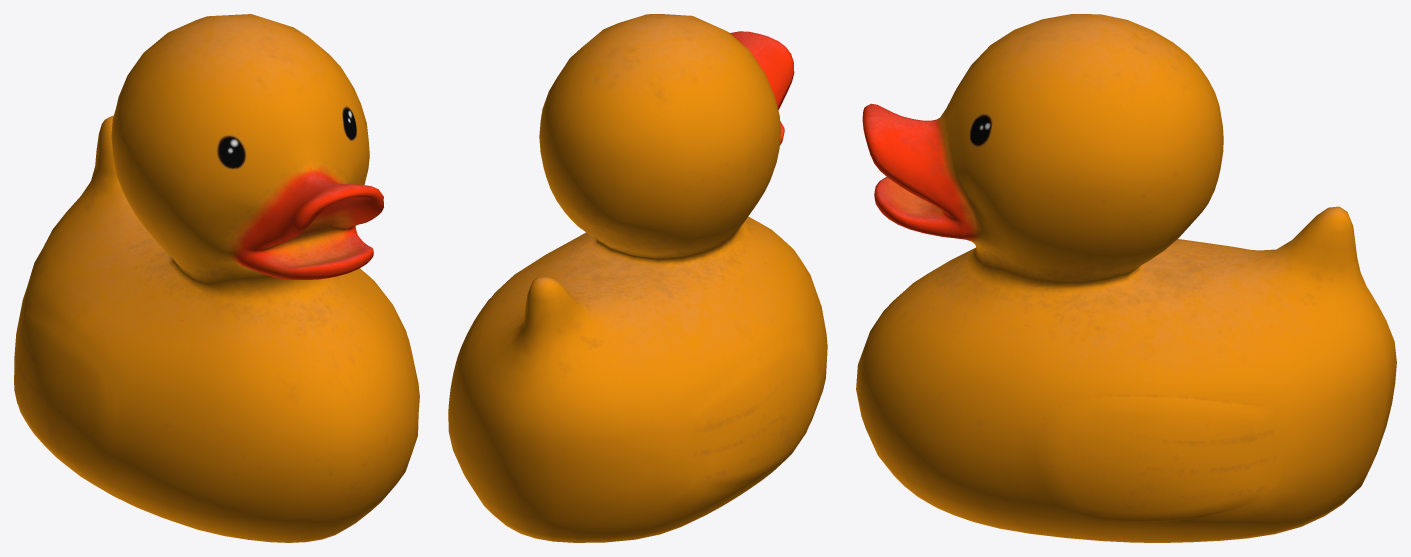
The model's file is rubber_duck_toy.glb.
3 views of the same model, side by side, from view 1: azimuth 30°, elevation 25°; view 2: azimuth 150°, elevation 25°; view 3: azimuth 270°, elevation 25° (orthographic). The views are drawn at different scales.
Visible parts, largest first — view 1: rubber_duck_toy; view 2: rubber_duck_toy; view 3: rubber_duck_toy.
Boxes of the visible parts, box(x1,y1,x2,y2) form: rubber_duck_toy: box(14, 14, 419, 542); rubber_duck_toy: box(448, 14, 827, 542); rubber_duck_toy: box(856, 14, 1396, 542).
Bounding box in the file's own units: 0.2135 × 0.2855 × 0.3.
Materials: 1 (1 with a texture image).
